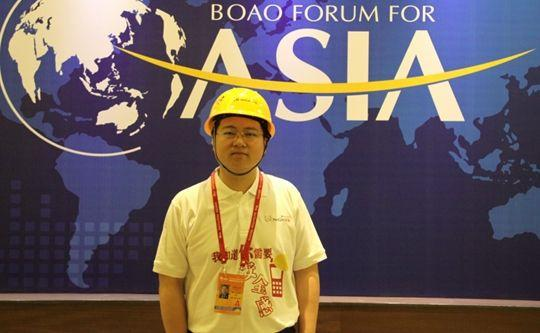helmet: (206, 91, 279, 138)
